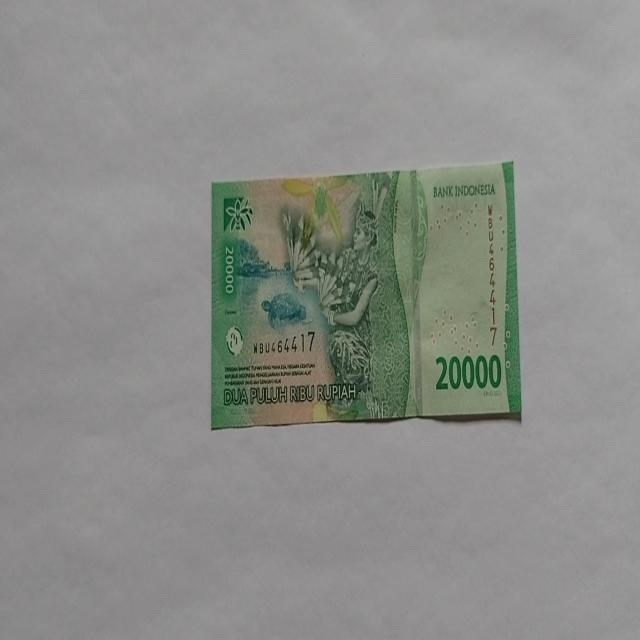dua puluh ribu rupiah: (210, 159, 522, 429)
